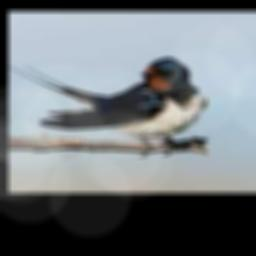Swallow: (8, 58, 205, 154)
